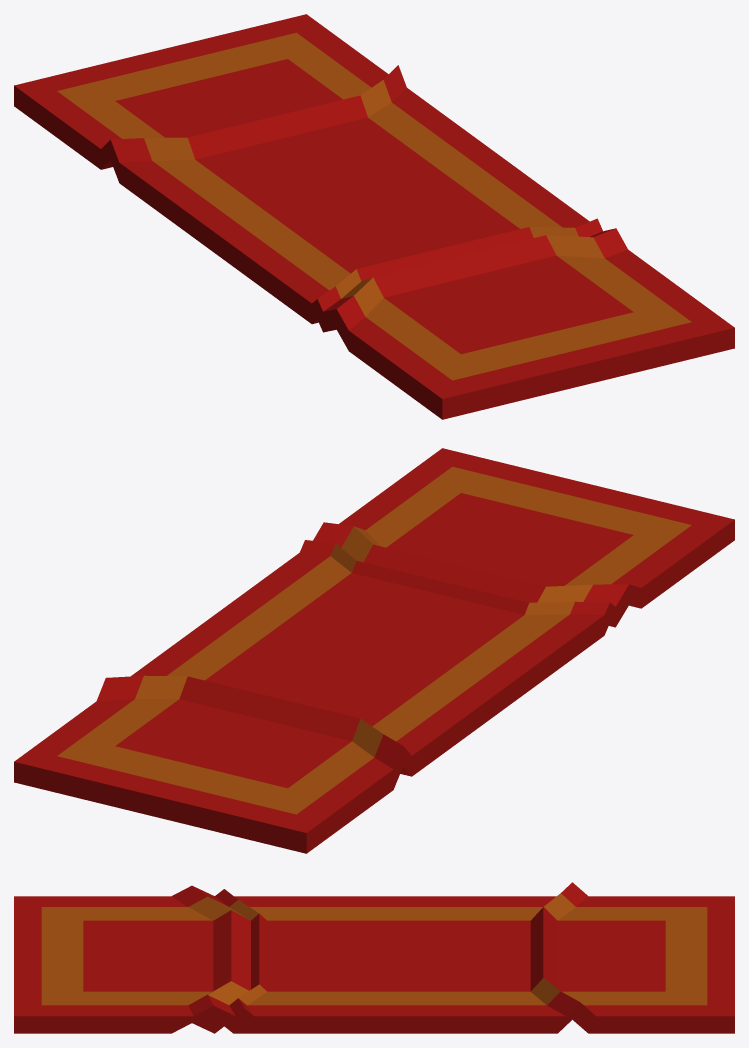
Rendered from Carpet.obj.
3 renders of one model, top to bottom at view 1: azimuth 30°, elevation 25°; view 2: azimuth 150°, elevation 25°; view 3: azimuth 270°, elevation 25°, orthographic. The views are drawn at different scales.
Visible parts, largest first — view 1: Carpet_Cube.014; view 2: Carpet_Cube.014; view 3: Carpet_Cube.014.
Boxes of the visible parts, box(x1,y1,x2,y2) form: Carpet_Cube.014: box(14, 14, 734, 419); Carpet_Cube.014: box(14, 448, 734, 853); Carpet_Cube.014: box(14, 882, 734, 1033).
Bounding box in the file's own units: 2.11 × 0.2577 × 5.35.
